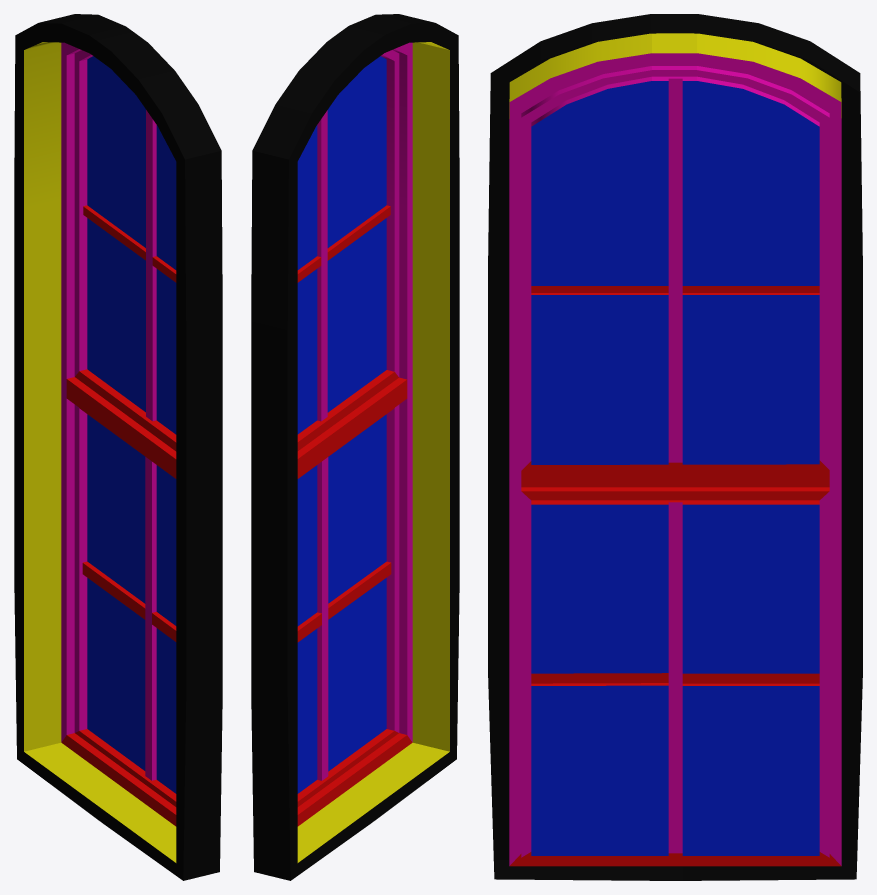
The model's file is vaggfonster.fbx.
The picture shows the model from 3 angles, left to right: view 1: azimuth 30°, elevation 25°; view 2: azimuth 150°, elevation 25°; view 3: azimuth 270°, elevation 25°; orthographic projection. The views are drawn at different scales.
Visible parts, largest first — view 1: wall_window; view 2: wall_window; view 3: wall_window.
Part boxes in pixels (x1,y1,x2,y2): wall_window: [14, 14, 222, 880]; wall_window: [251, 14, 459, 880]; wall_window: [488, 14, 862, 880].
Size of the model in its own units: 20 by 279 by 112.
